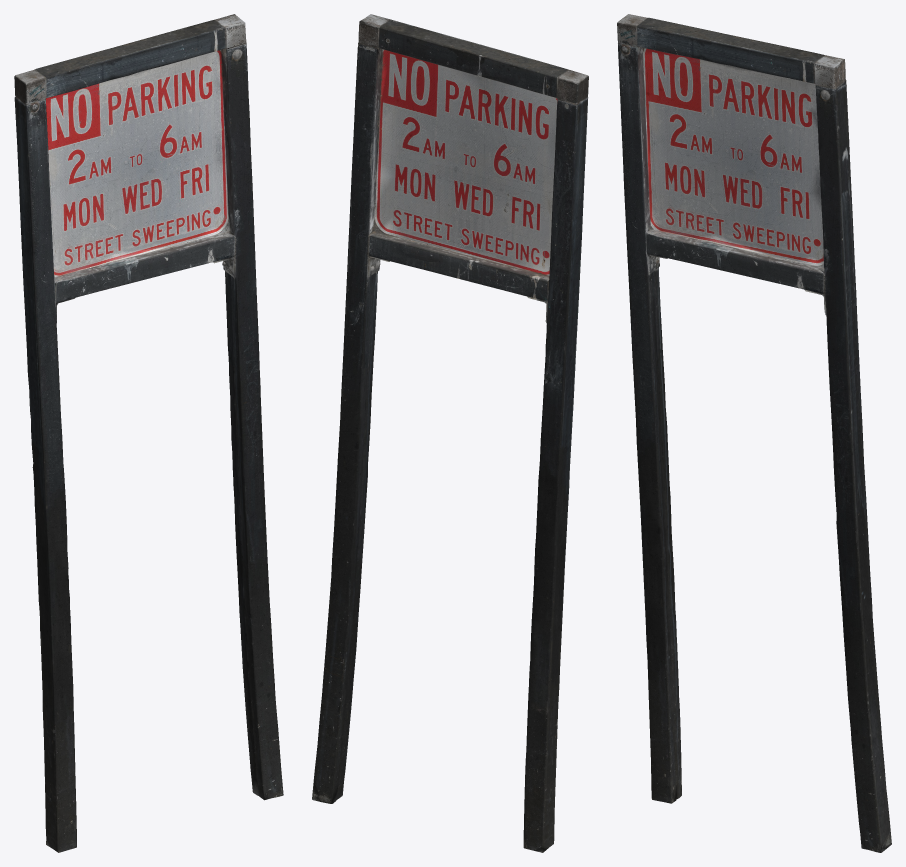
The picture shows the model from 3 angles, left to right: view 1: azimuth 30°, elevation 25°; view 2: azimuth 150°, elevation 25°; view 3: azimuth 330°, elevation 25°; orthographic projection.
Visible parts, largest first — view 1: SM_uknkefiqx; view 2: SM_uknkefiqx; view 3: SM_uknkefiqx.
Boxes of the visible parts, x1,y1,x2,y2 form: SM_uknkefiqx: (14, 14, 283, 852); SM_uknkefiqx: (312, 14, 588, 852); SM_uknkefiqx: (617, 14, 891, 852).
Size of the model in its own units: 0.6213 by 1.78 by 0.0727.
1 material, 1 textured.
